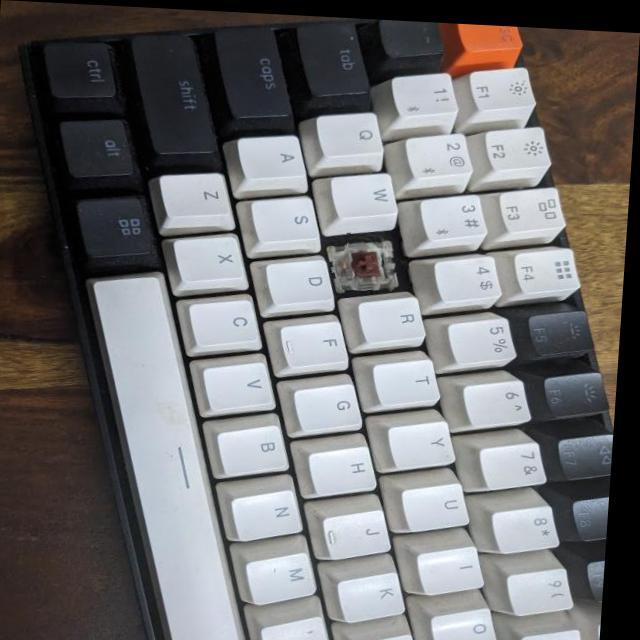key-switch: (343, 230, 400, 288)
